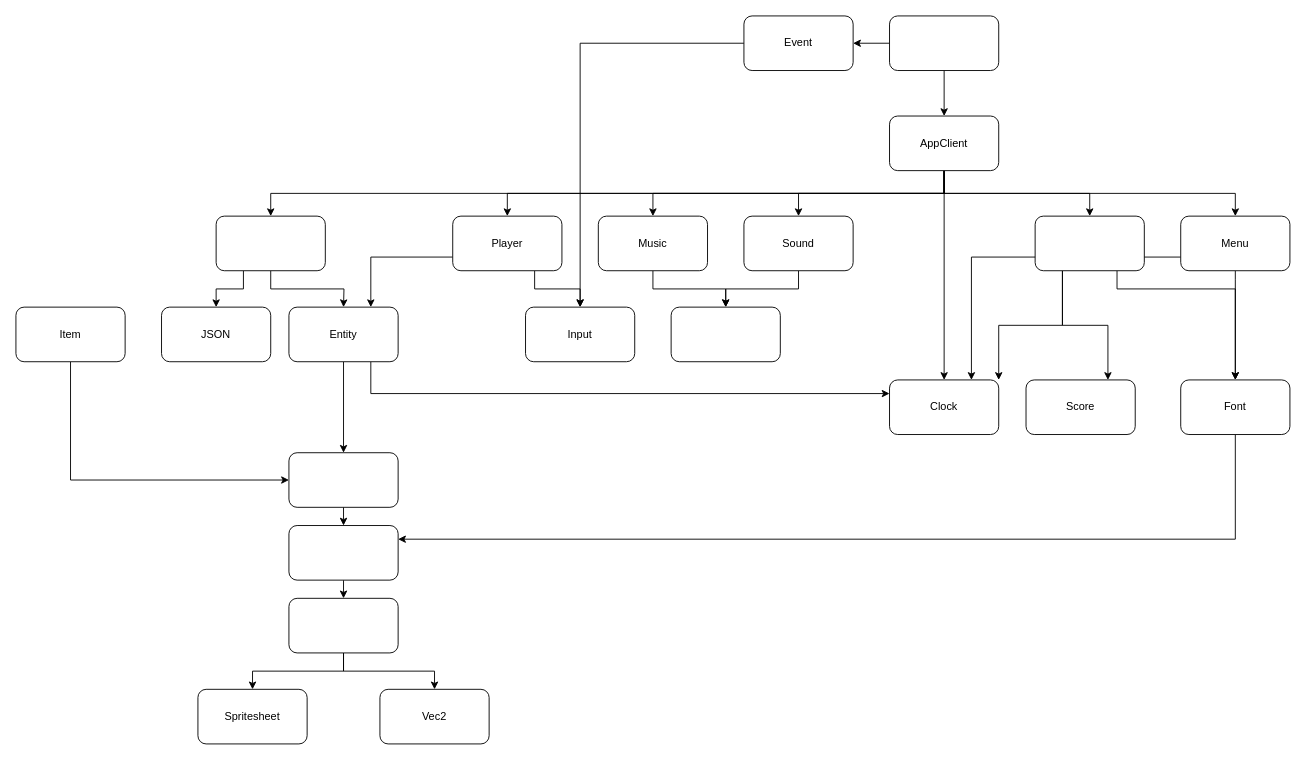
Image size: 1306x760. Some labels were removed from this diagram. The shapes that lost their labels are listed below. From the top down, each one's centre as x and y in pixels, then its label:
At point (944, 43): "Main_Client".
At point (270, 243): "Map".
At point (1089, 243): "Gui".
At point (725, 334): "Audio".
At point (343, 479): "Camera".
At point (343, 552): "Graphics".
At point (343, 625): "Drawable".
